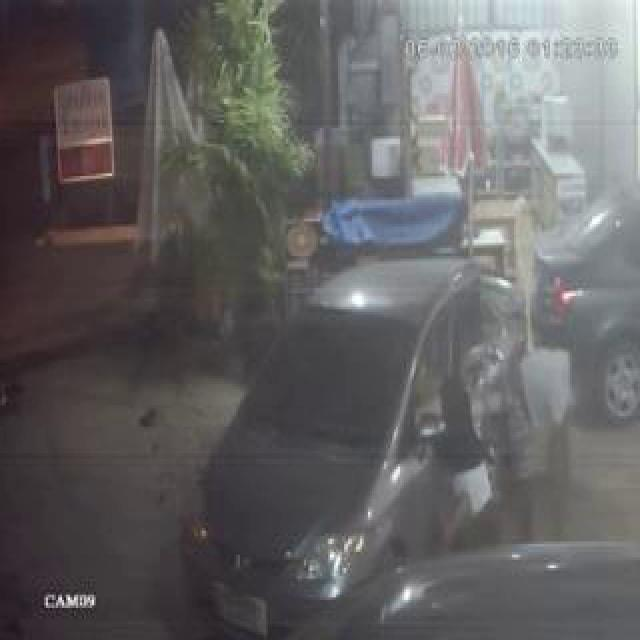road accidents: (221, 0, 597, 604)
